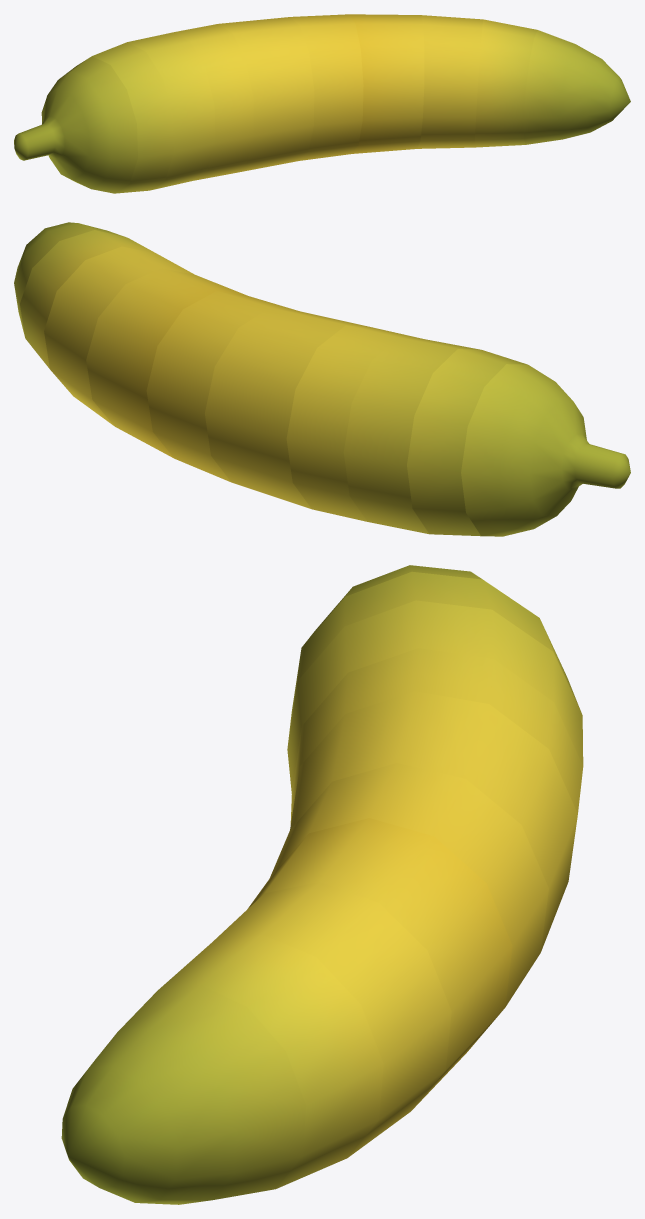
Rendered from Banana.fbx.
The picture shows the model from 3 angles, top to bottom: view 1: azimuth 30°, elevation 25°; view 2: azimuth 150°, elevation 25°; view 3: azimuth 270°, elevation 25°; orthographic projection. The views are drawn at different scales.
Visible parts, largest first — view 1: Banana; view 2: Banana; view 3: Banana.
Boxes of the visible parts, box(x1,y1,x2,y2) form: Banana: box(14, 14, 630, 193); Banana: box(14, 222, 630, 536); Banana: box(61, 565, 583, 1204).
Size of the model in its own units: 8.6 by 2.13 by 3.63.
